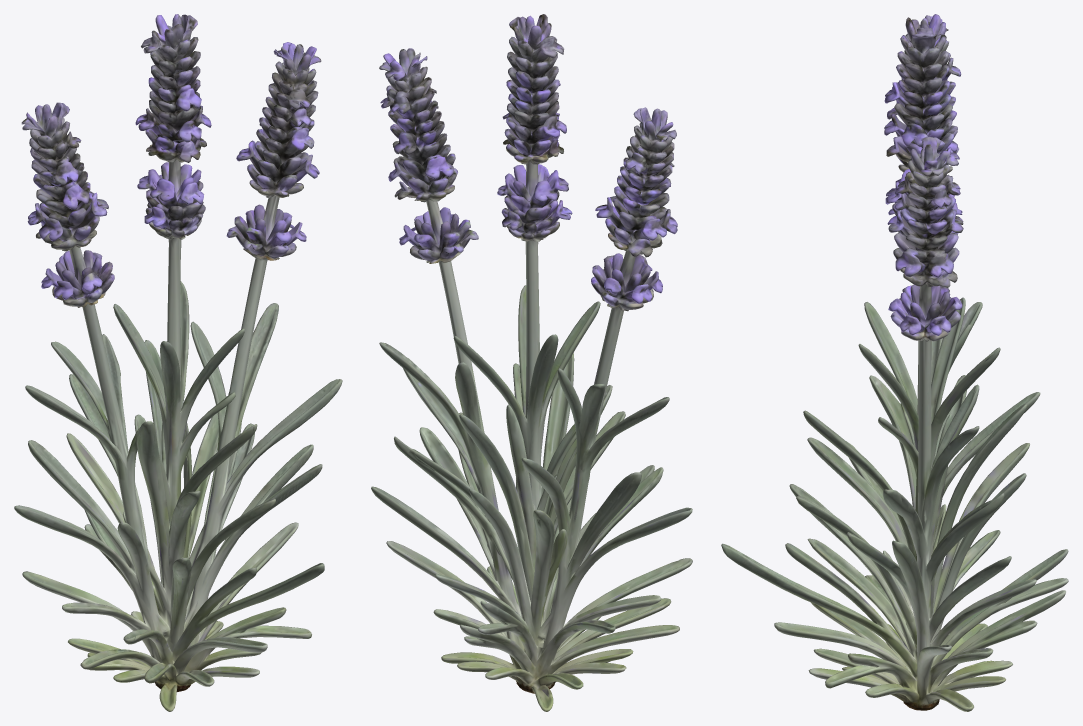
The model's file is xunyicao.glb.
The picture shows the model from 3 angles, left to right: view 1: azimuth 30°, elevation 25°; view 2: azimuth 150°, elevation 25°; view 3: azimuth 270°, elevation 25°; orthographic projection. The views are drawn at different scales.
Parts seen in each view (by area): view 1: node_0; view 2: node_0; view 3: node_0.
Boxes of the visible parts, left/top/right/bottom form: node_0: left=14, top=14, right=342, bottom=711; node_0: left=371, top=14, right=692, bottom=711; node_0: left=721, top=14, right=1068, bottom=711.
Bounding box in the file's own units: 0.577 × 1.19 × 0.5468.
Materials: 1 (1 with a texture image).
